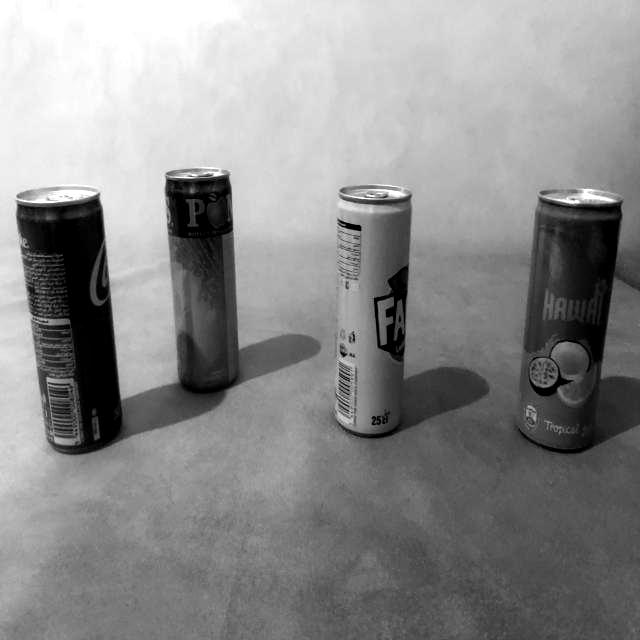metal: (508, 170, 626, 475), (10, 182, 128, 458), (321, 168, 420, 449), (154, 158, 252, 402)
